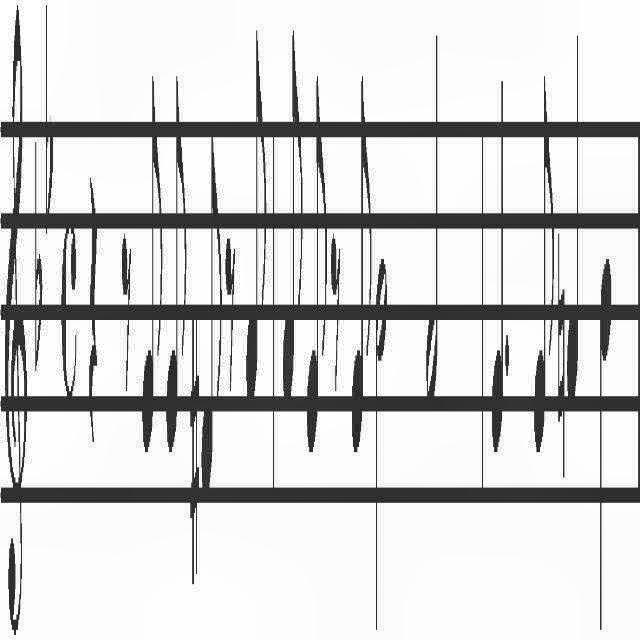Bass-clef: (4, 0, 28, 640)
Bemol: (188, 320, 200, 590), (41, 0, 54, 240), (32, 118, 44, 366)
Eighth-note: (346, 50, 374, 486), (532, 49, 556, 535), (140, 27, 163, 513), (278, 30, 302, 476), (243, 11, 269, 401), (306, 49, 330, 464), (167, 38, 187, 516), (200, 126, 223, 536)
Eighth-rest: (115, 205, 135, 428), (330, 194, 342, 426), (224, 217, 236, 411)
Half-note: (422, 38, 444, 470), (373, 243, 395, 640)
Quarter-note: (596, 192, 616, 640), (490, 38, 506, 486), (566, 46, 582, 446)
Quarter-rest: (81, 144, 99, 500)
